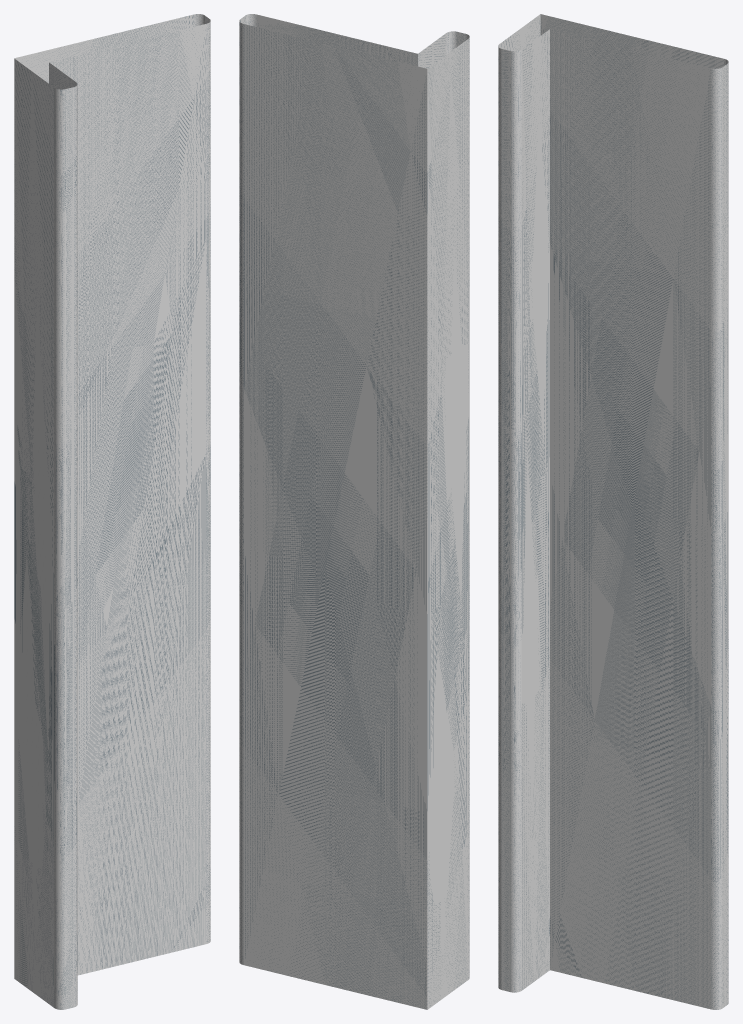
File: PW_CornerFixElem_ds_T2_035x085x010x400.dae
The picture shows the model from 3 angles, left to right: view 1: azimuth 30°, elevation 25°; view 2: azimuth 150°, elevation 25°; view 3: azimuth 330°, elevation 25°; orthographic projection. The views are drawn at different scales.
Parts seen in each view (by area): view 1: group_0; view 2: group_0; view 3: group_0.
Part boxes in pixels (x1=…): group_0: x1=14, y1=14, x2=210, y2=1009; group_0: x1=239, y1=14, x2=469, y2=1009; group_0: x1=498, y1=14, x2=728, y2=1009.
Size of the model in its own units: 33.46 by 13.78 by 157.
